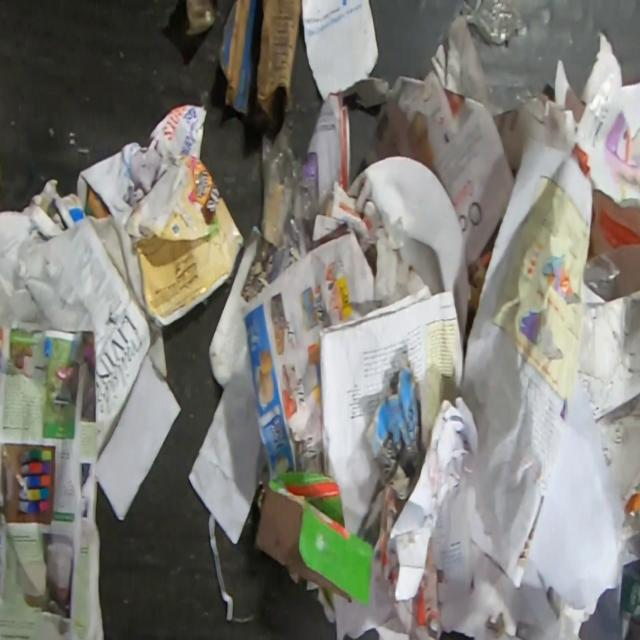cardboard: (74, 101, 208, 320), (125, 155, 246, 330), (252, 468, 374, 608), (216, 0, 302, 136), (362, 351, 426, 532)
rigid_plastic: (345, 153, 470, 352), (184, 0, 216, 37)
soft_plastic: (259, 121, 334, 256), (461, 0, 528, 47)
